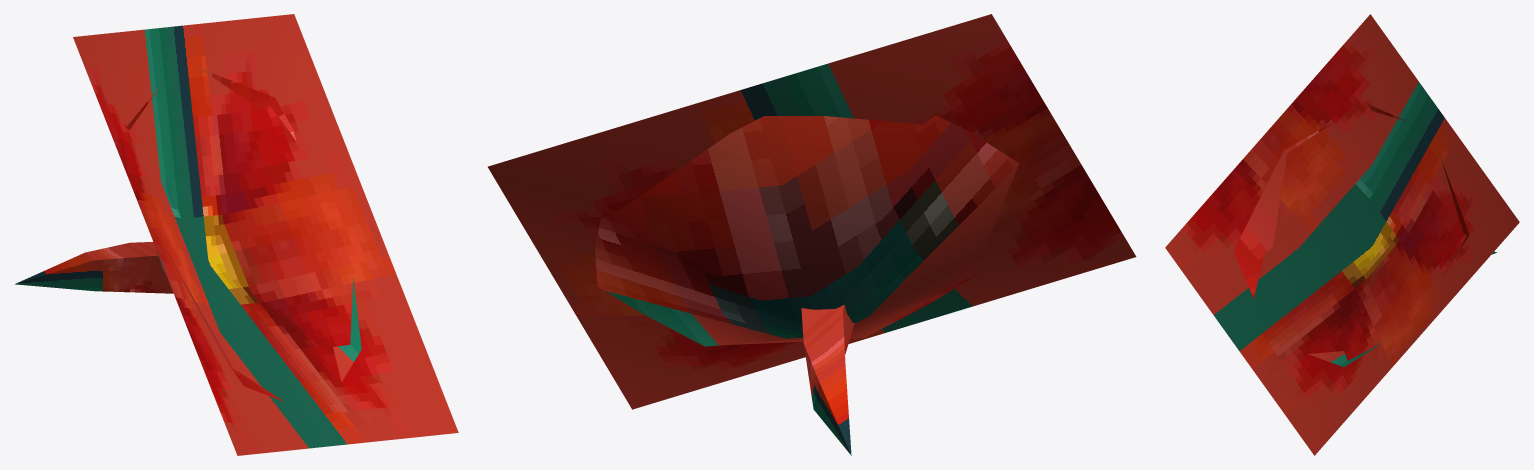
File: flw_cosmos_rd_cap.dae
3 renders of one model, left to right at view 1: azimuth 30°, elevation 25°; view 2: azimuth 150°, elevation 25°; view 3: azimuth 270°, elevation 25°, orthographic. The views are drawn at different scales.
Parts seen in each view (by area): view 1: flw_cosmos_rd_cap; view 2: flw_cosmos_rd_cap; view 3: flw_cosmos_rd_cap.
Boxes of the visible parts, x1,y1,x2,y2 form: flw_cosmos_rd_cap: (15,14,458,455); flw_cosmos_rd_cap: (488,14,1136,455); flw_cosmos_rd_cap: (1165,14,1519,455).
Size of the model in its own units: 8.81 by 10.98 by 10.98.
1 material, 1 textured.
